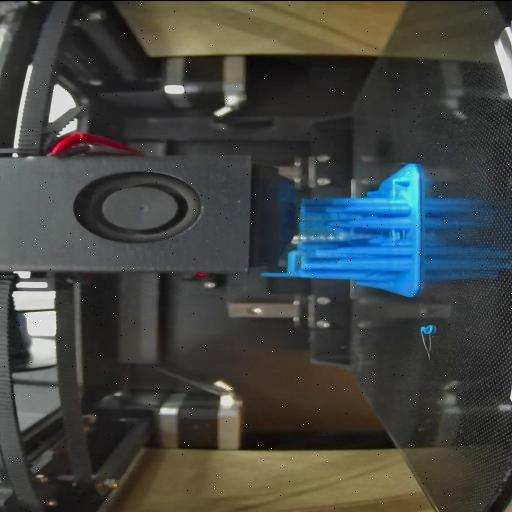stringing: (298, 210, 326, 246), (386, 226, 412, 242), (388, 178, 404, 200)
